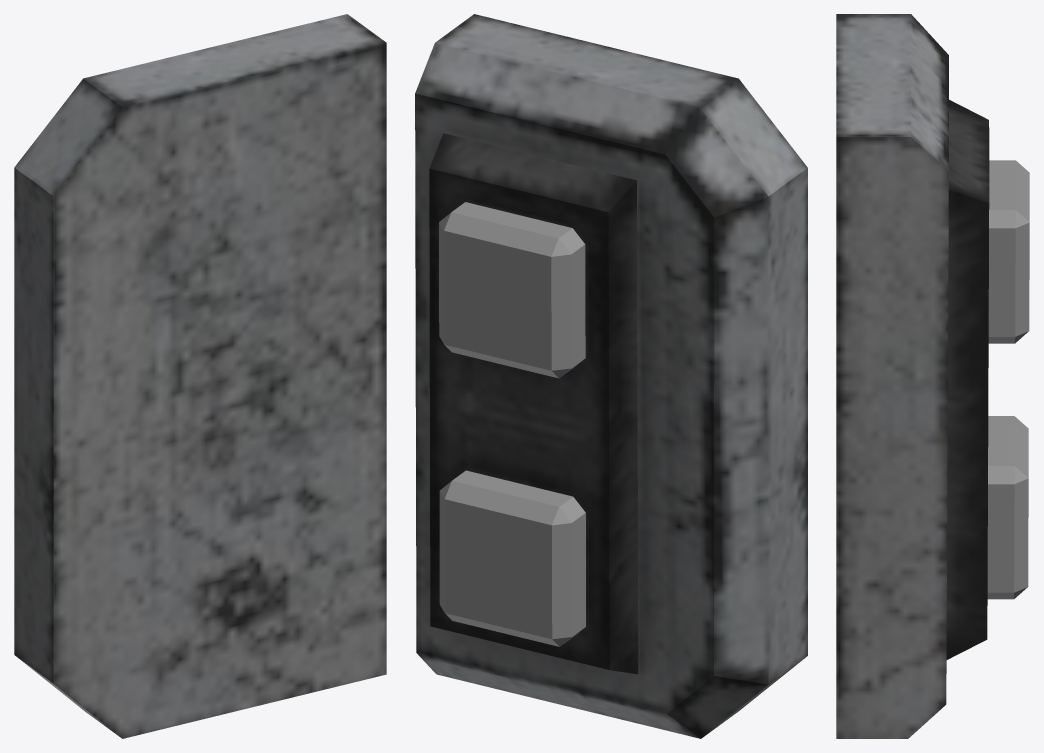
File: LockIndicator.FBX
3 views of the same model, side by side, from view 1: azimuth 30°, elevation 25°; view 2: azimuth 150°, elevation 25°; view 3: azimuth 270°, elevation 25° (orthographic). The views are drawn at different scales.
Parts seen in each view (by area): view 1: LockIndicator; view 2: LockIndicator, GreenLight, RedLight; view 3: LockIndicator, GreenLight, RedLight.
Part boxes in pixels (<box>): LockIndicator: <box>14,14,386,738</box>; LockIndicator: <box>415,14,807,738</box>; GreenLight: <box>439,470,585,646</box>; RedLight: <box>439,202,585,378</box>; LockIndicator: <box>836,14,989,738</box>; GreenLight: <box>987,416,1028,599</box>; RedLight: <box>988,160,1029,343</box>.
Size of the model in its own units: 19.31 by 35 by 10.19.
Materials: 2 (1 with a texture image).
